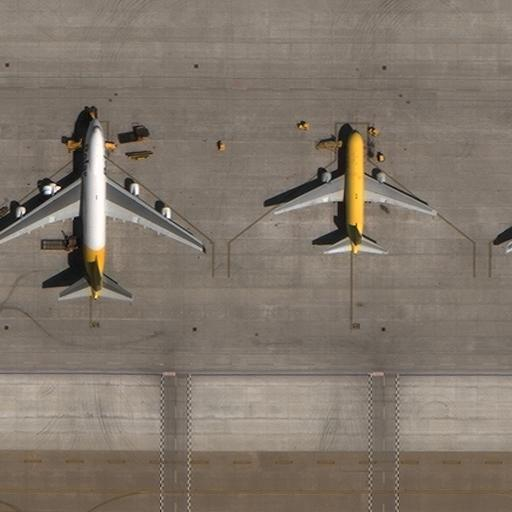Large Civil Transport: (0, 118, 205, 299), (273, 128, 436, 255)
